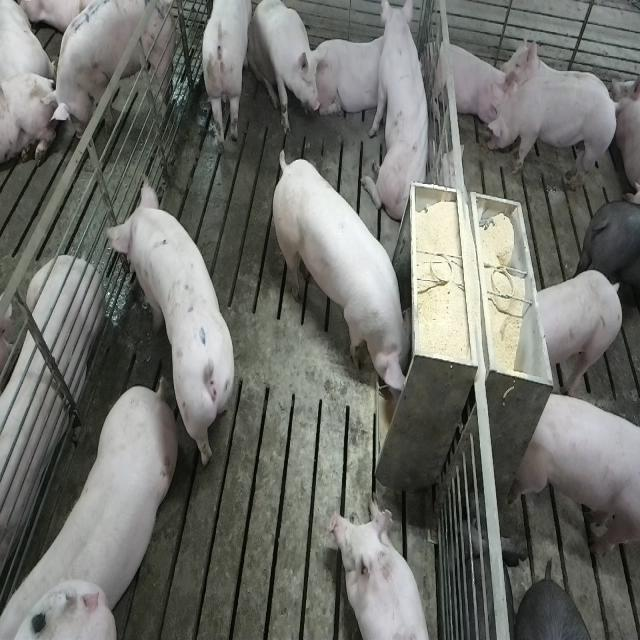Feeding: (276, 147, 420, 398)
Sitting: (368, 4, 434, 228), (249, 0, 320, 136)
Standing: (5, 374, 181, 634), (102, 176, 235, 470), (514, 387, 638, 566), (48, 0, 181, 135), (483, 78, 622, 188), (534, 269, 624, 400), (199, 1, 252, 159), (583, 190, 640, 326)
Sternal_lying: (0, 257, 100, 576), (331, 498, 435, 640), (426, 30, 510, 135), (312, 34, 393, 121), (500, 31, 563, 104)
